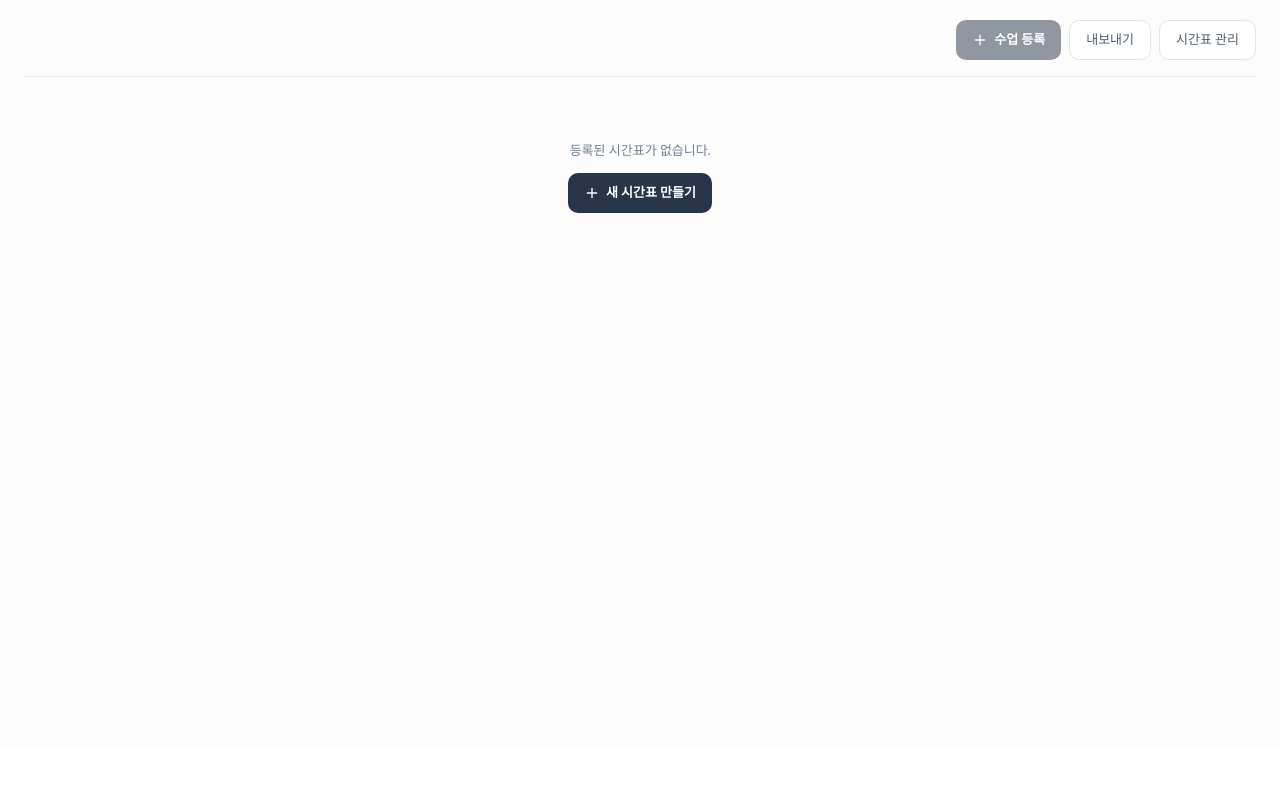
Test: TimetableContainer › 등록된 시간표가 없으면 안내 문구와 새 시간표 만들기 버튼을 표시한다
Expected: the text "등록된 시간표가 없습니다." is shown, [570,141,710,160]
Click the button "새 시간표 만들기" at [640, 192], box [568,172,712,212]
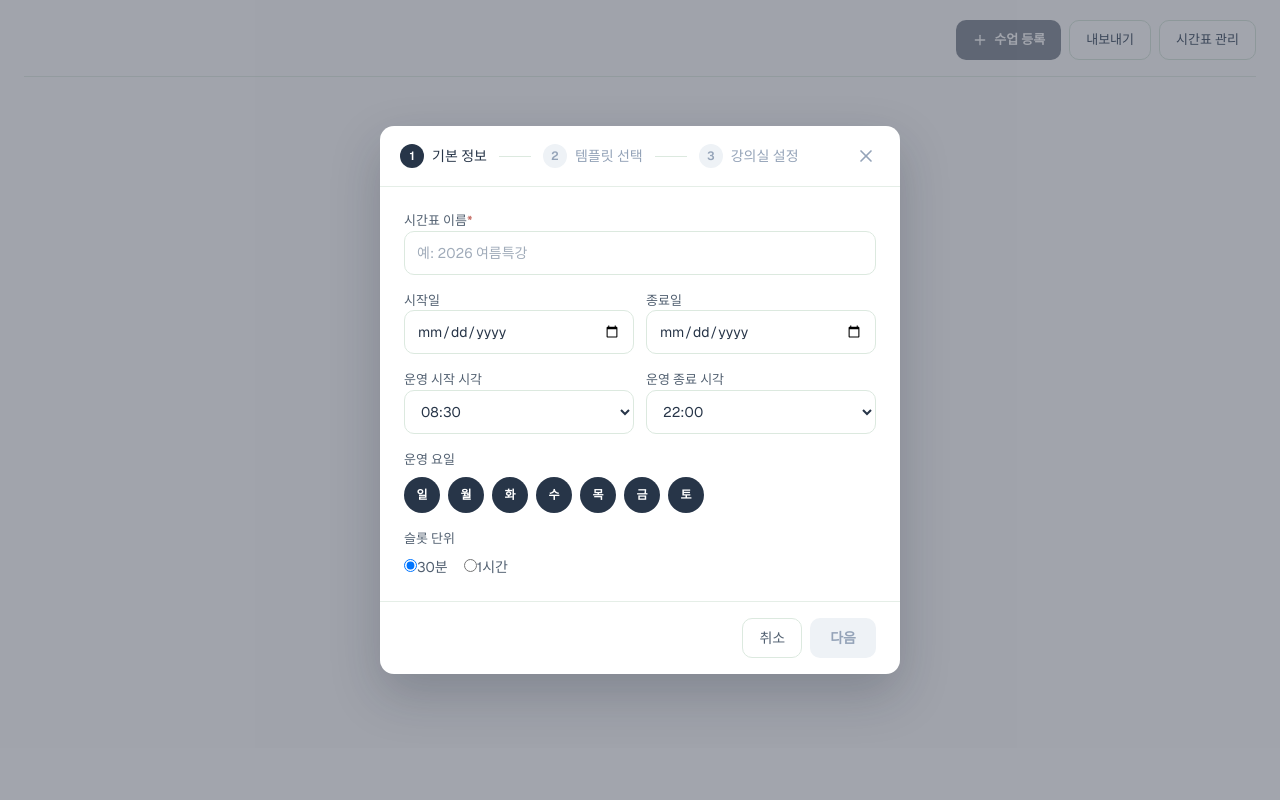
Expected: the field labelled "시간표 이름" is shown, [404,231,876,275]
